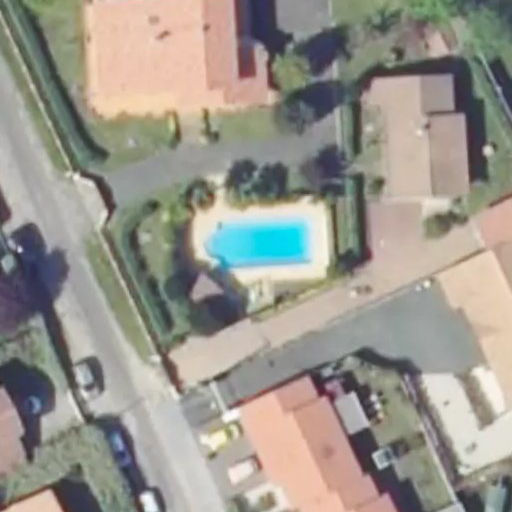pool: (201, 211, 318, 270)
